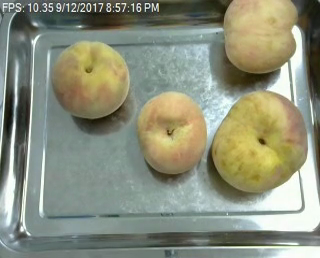Peach: (211, 89, 308, 194), (50, 39, 130, 120), (137, 90, 205, 174), (219, 0, 296, 74)
